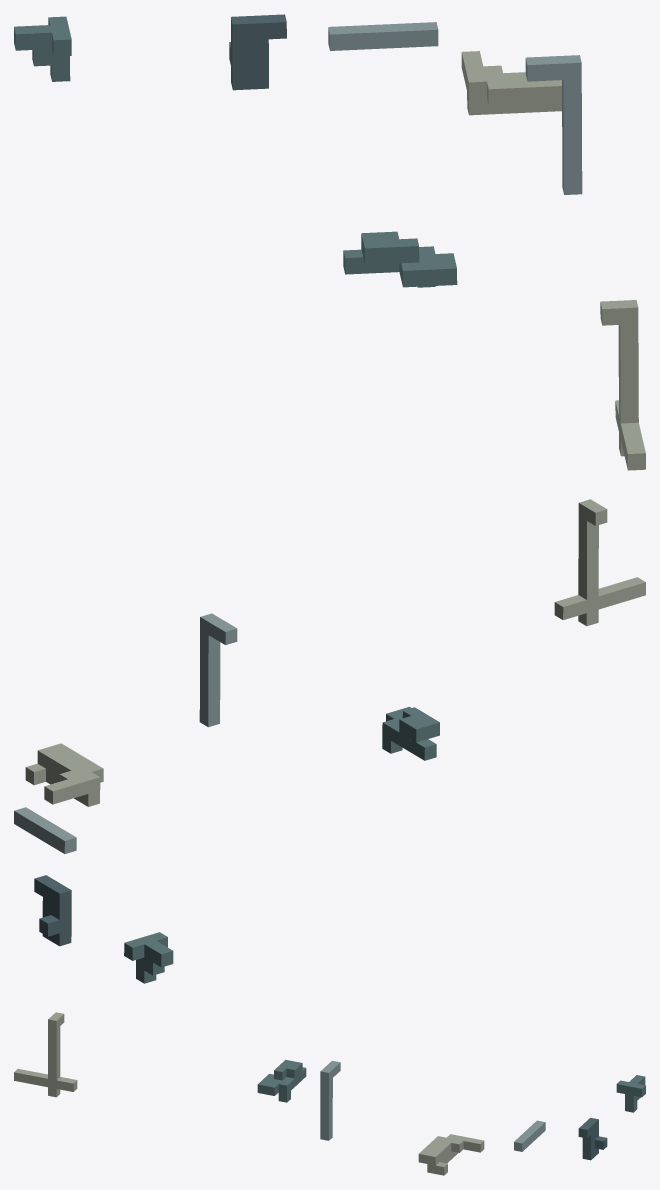
The picture shows the model from 3 angles, top to bottom: view 1: azimuth 30°, elevation 25°; view 2: azimuth 150°, elevation 25°; view 3: azimuth 270°, elevation 25°; orthographic projection. The views are drawn at different scales.
Parts seen in each view (by area): view 1: measured-industrial; view 2: measured-industrial; view 3: measured-industrial.
Boxes of the visible parts, x1,y1,x2,y2 form: measured-industrial: (14, 14, 645, 470); measured-industrial: (14, 499, 645, 983); measured-industrial: (14, 1012, 645, 1175).
Bounding box in the file's own units: 23.61 × 12.05 × 67.62.
